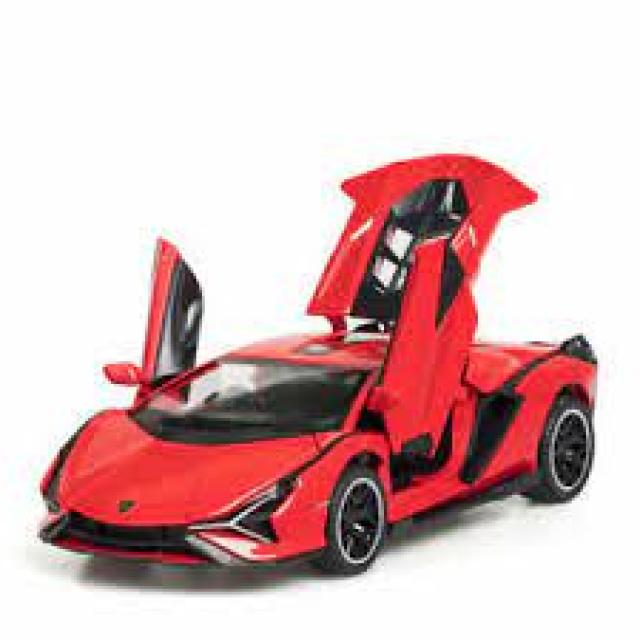Car: (37, 150, 600, 574)
